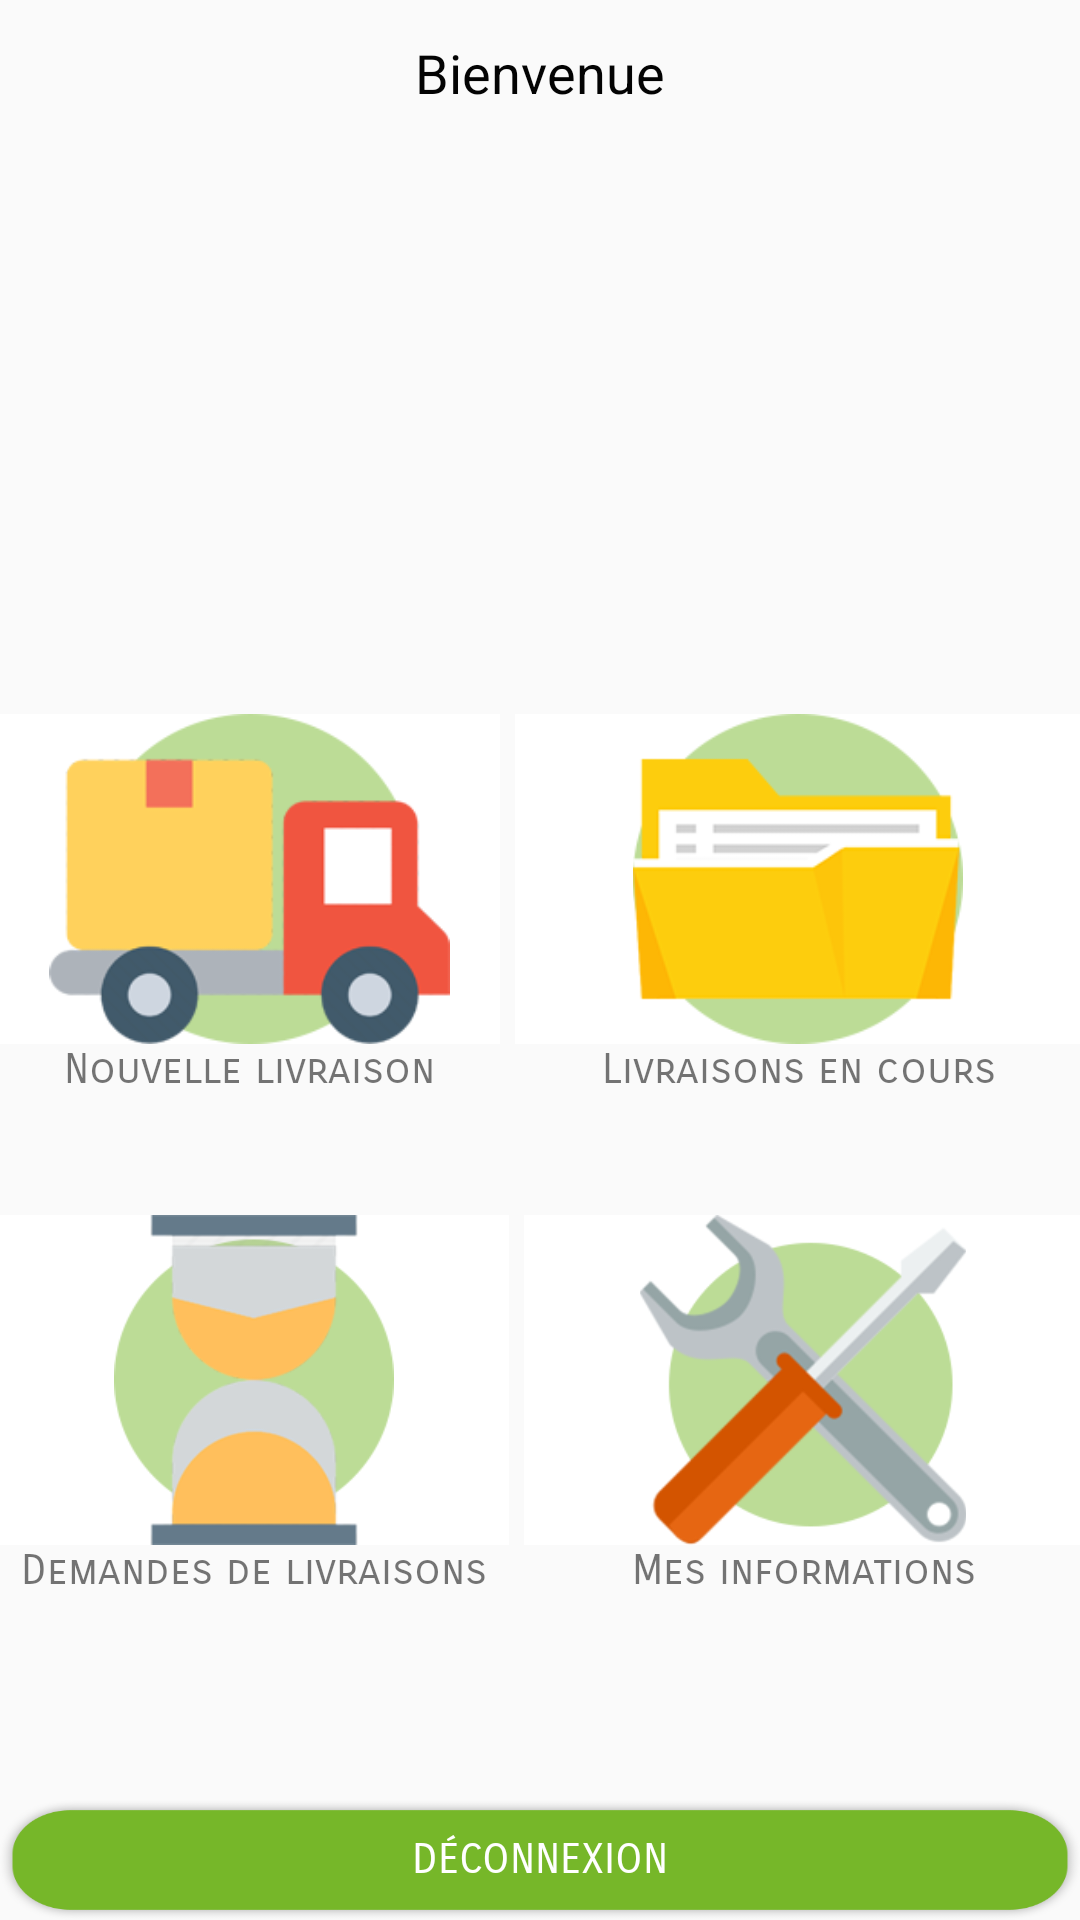

Named icons in this screenshot (1080w x 1920h) and their centers, [x,y]:
deliveries history: [254,1380]
